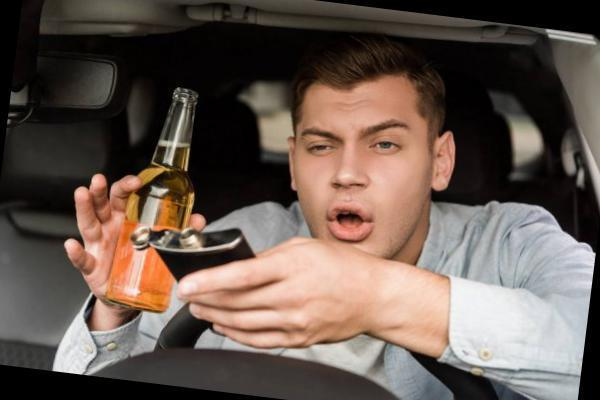Drunk: (296, 86, 426, 254)
